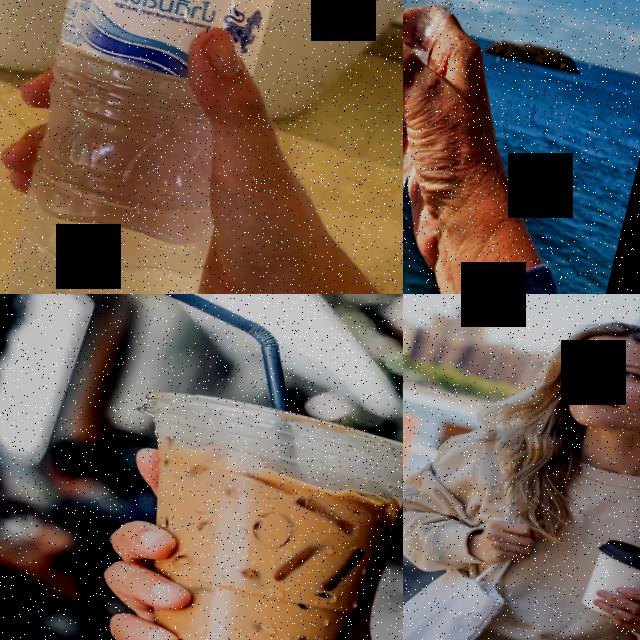bottle: (0, 0, 315, 294), (403, 0, 481, 294)
cup: (79, 374, 403, 640), (575, 534, 640, 628)
